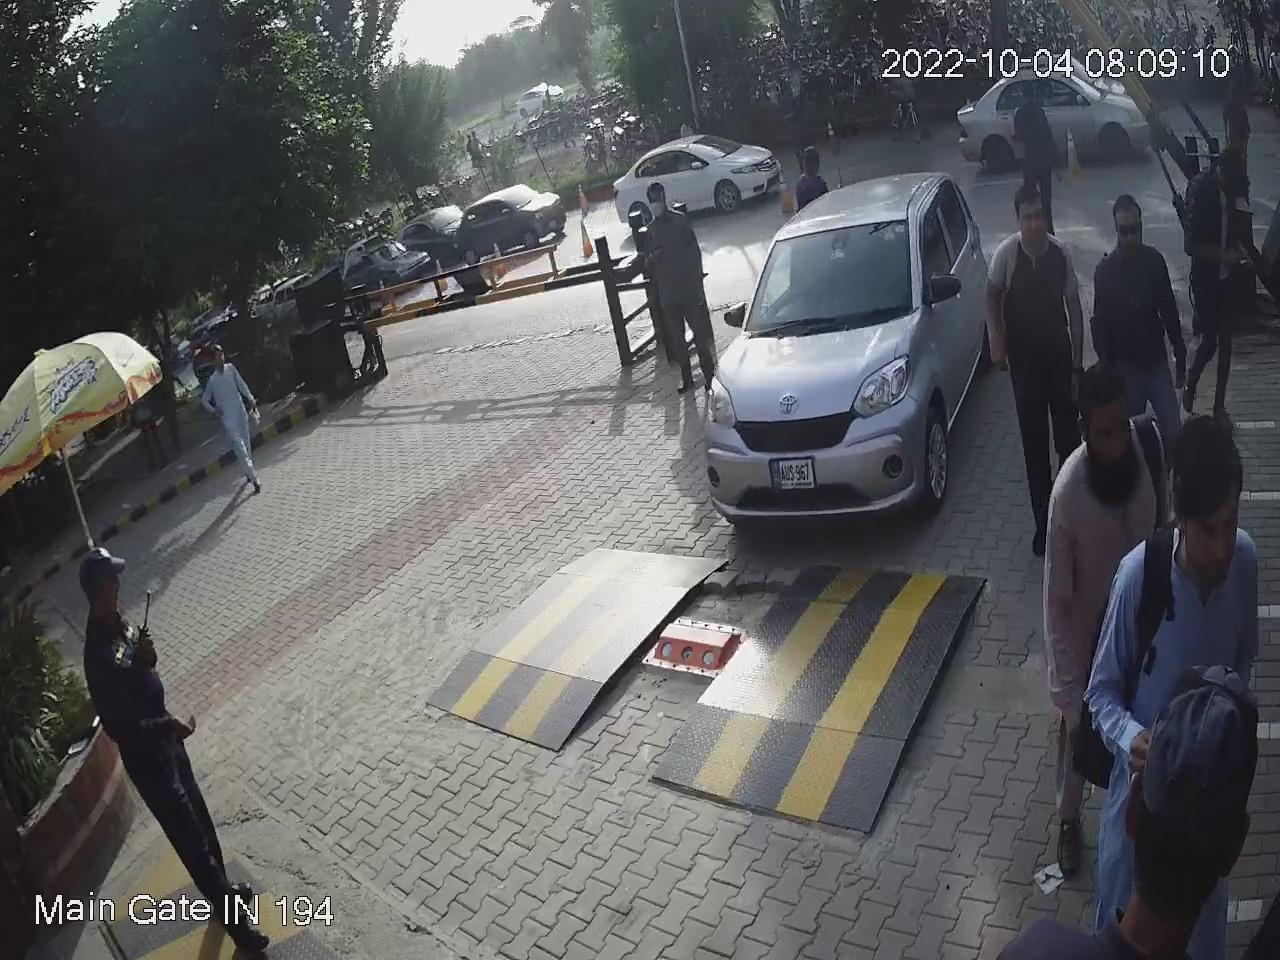windshield: (741, 213, 913, 335)
